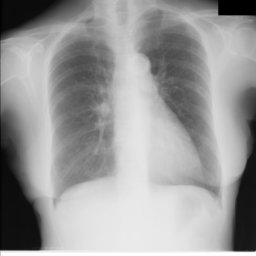right lobe: (139, 9, 219, 194), (51, 19, 114, 198)
